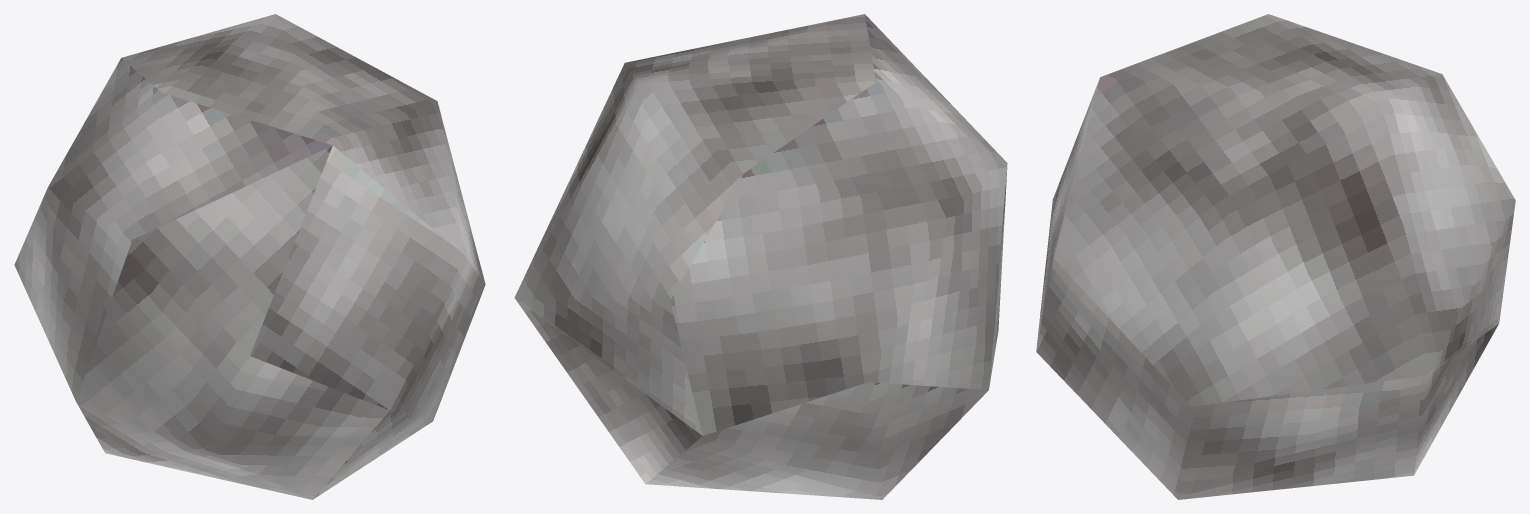
Rendered from rock.glb.
The picture shows the model from 3 angles, left to right: view 1: azimuth 30°, elevation 25°; view 2: azimuth 150°, elevation 25°; view 3: azimuth 270°, elevation 25°; orthographic projection. The views are drawn at different scales.
Parts seen in each view (by area): view 1: Cube.005; view 2: Cube.005; view 3: Cube.005.
Part boxes in pixels (x1,y1,x2,y2): Cube.005: [14, 14, 485, 499]; Cube.005: [514, 14, 1007, 499]; Cube.005: [1036, 14, 1515, 499].
Size of the model in its own units: 11.82 by 11.4 by 12.22.
Materials: 1 (1 with a texture image).
